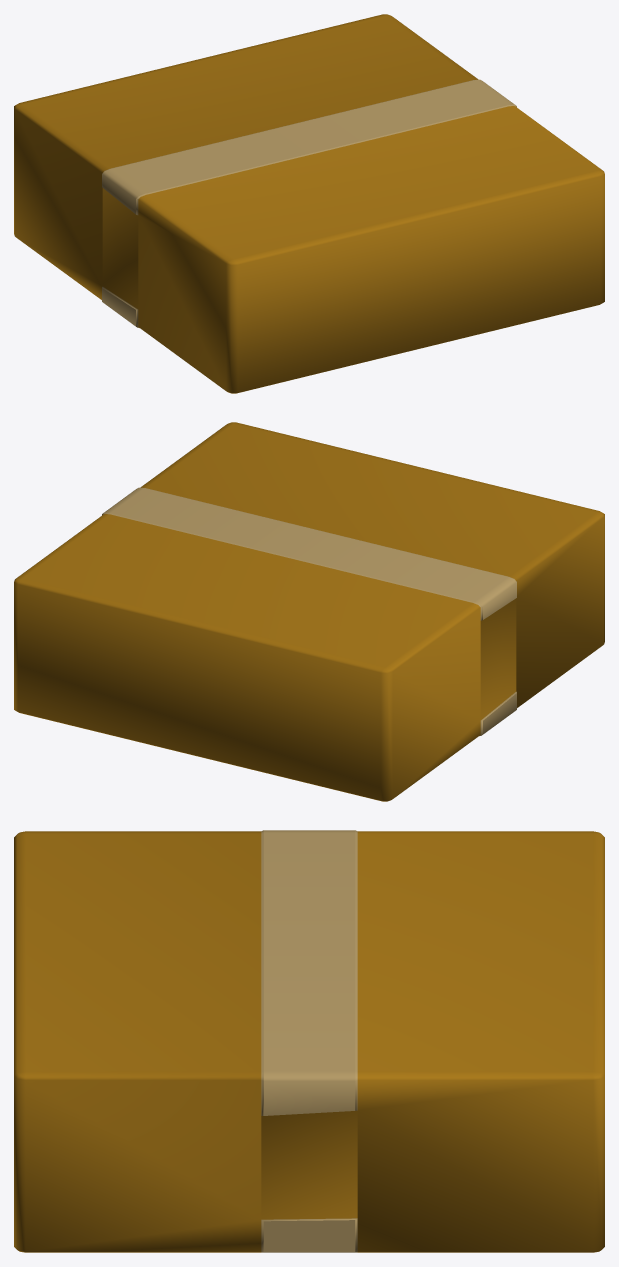
3 views of the same model, one above another, from view 1: azimuth 30°, elevation 25°; view 2: azimuth 150°, elevation 25°; view 3: azimuth 270°, elevation 25° (orthographic). The views are drawn at different scales.
Parts seen in each view (by area): view 1: 3x1x3; view 2: 3x1x3; view 3: 3x1x3.
Part boxes in pixels (bbox=[...]): 3x1x3: bbox=[14, 14, 604, 393]; 3x1x3: bbox=[14, 422, 604, 801]; 3x1x3: bbox=[14, 830, 604, 1252].
Bounding box in the file's own units: 30 × 10.04 × 30.
